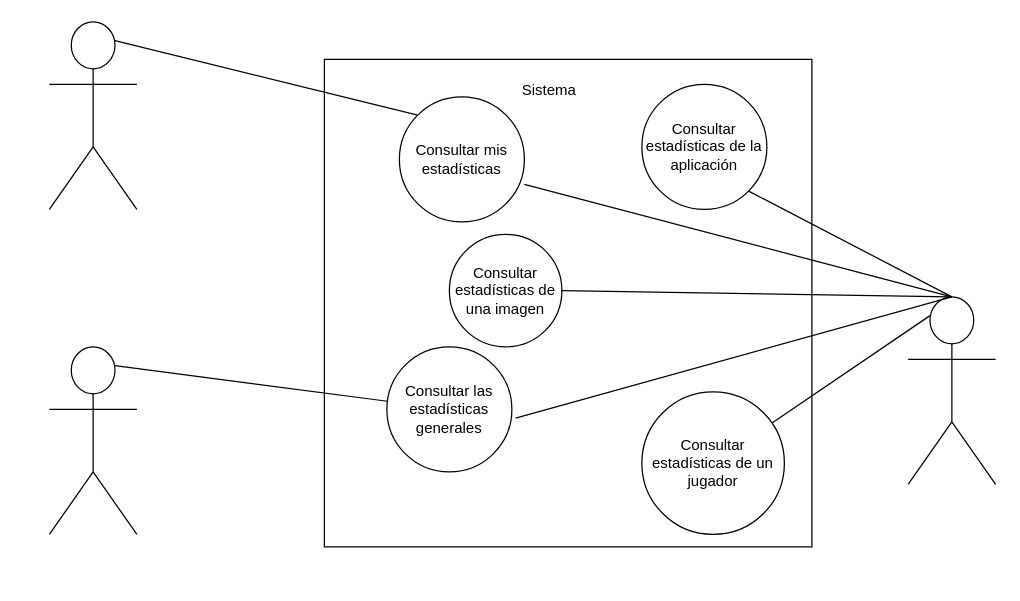
Image size: 1020x601. Some labels were removed from this diagram. Here are the shapes that lost their labels. From the top down, the centre of each, then its label:
(x=92, y=115): Usuario registrado
(x=951, y=390): Administrador
(x=92, y=440): Usuario no registrado
